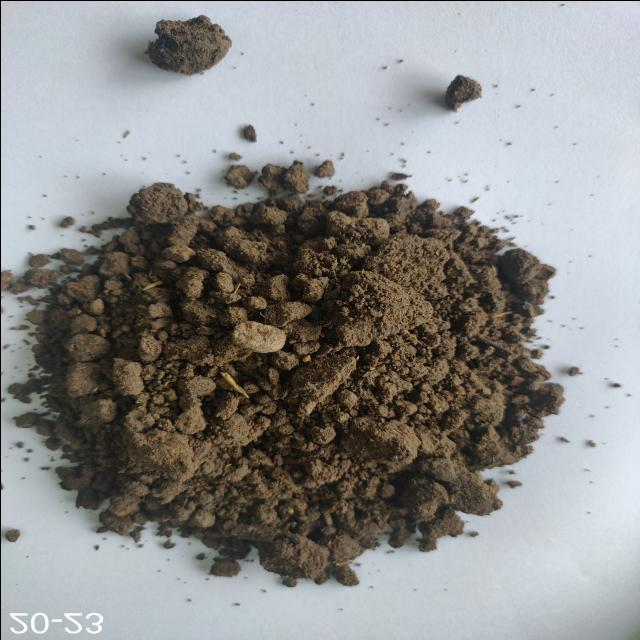soil: (128, 244, 492, 520)
